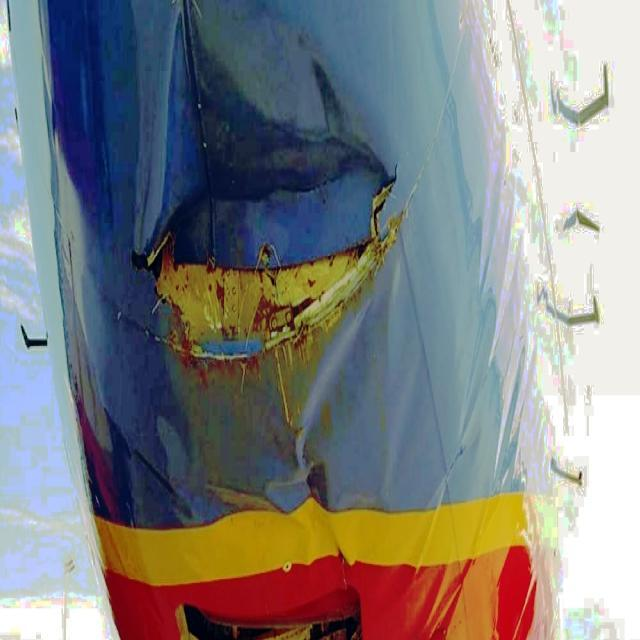crack: (138, 172, 419, 377)
